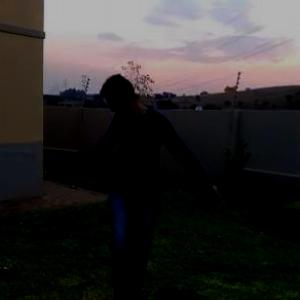land: (66, 69, 225, 294)
